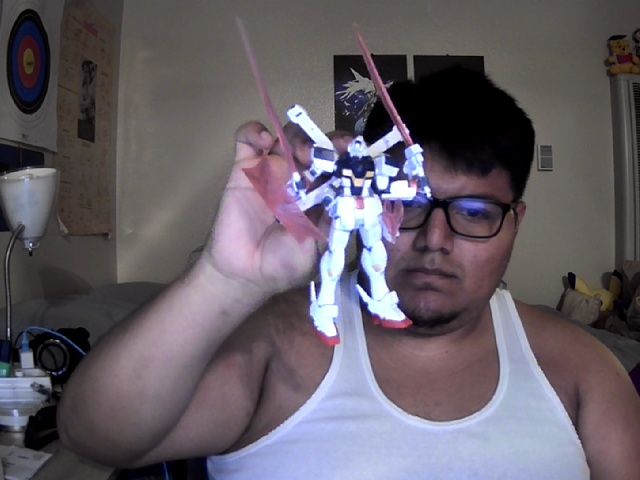Crossbones: (236, 16, 434, 348)
